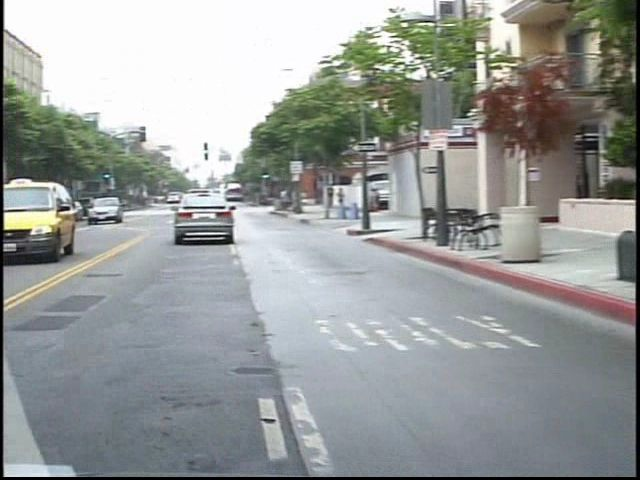person: (323, 186, 338, 221)
